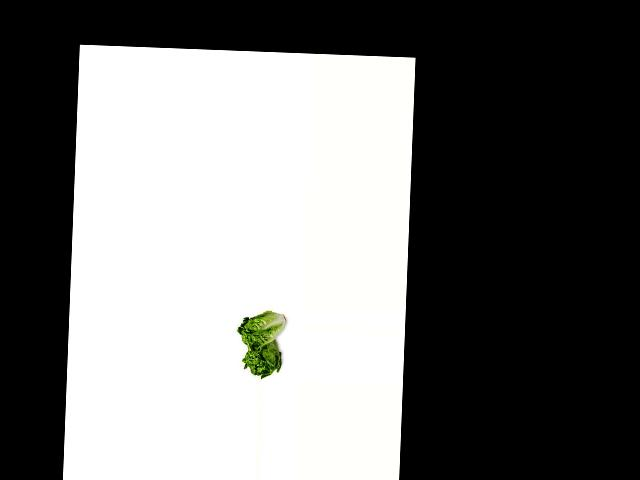lettuce: (241, 335, 288, 379)
